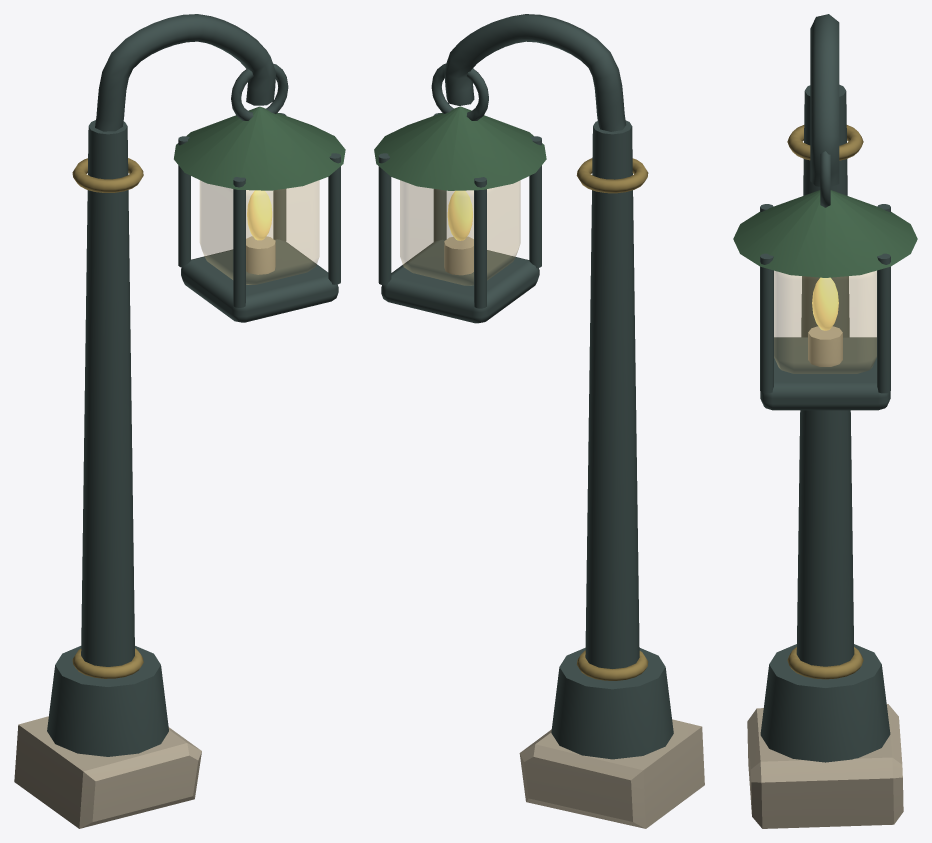
The model's file is farol.glb.
The picture shows the model from 3 angles, left to right: view 1: azimuth 30°, elevation 25°; view 2: azimuth 150°, elevation 25°; view 3: azimuth 270°, elevation 25°; orthographic projection. The views are drawn at different scales.
Parts seen in each view (by area): view 1: farol, fa_lampara, fa_lampara_cristal, fa_lampara_llama; view 2: farol, fa_lampara, fa_lampara_cristal, fa_lampara_llama; view 3: farol, fa_lampara, fa_lampara_cristal, fa_lampara_llama.
Boxes of the visible parts, x1,y1,x2,y2 form: farol: (14, 14, 276, 828); fa_lampara: (174, 63, 345, 322); fa_lampara_cristal: (200, 180, 319, 284); fa_lampara_llama: (247, 190, 272, 240); farol: (444, 14, 704, 828); fa_lampara: (374, 63, 546, 323); fa_lampara_cristal: (400, 180, 520, 285); fa_lampara_llama: (447, 190, 472, 240); farol: (747, 14, 903, 828); fa_lampara: (733, 151, 917, 410); fa_lampara_cristal: (774, 271, 876, 373); fa_lampara_llama: (812, 277, 838, 330).
Size of the model in its own units: 0.8233 by 2.05 by 0.426.
